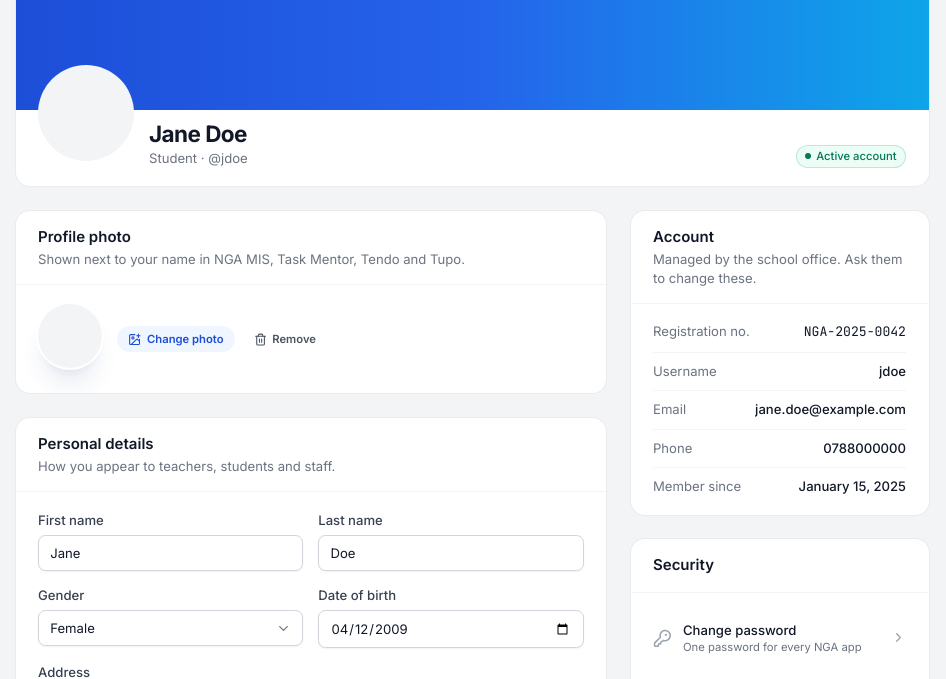
Test: Profile page › discards edits
This screenshot has width=946, height=679.
Type "x" into the field labelled "First name" at (171, 553), box top-left (38, 535), bottom-right (303, 571)
(page scrolled)
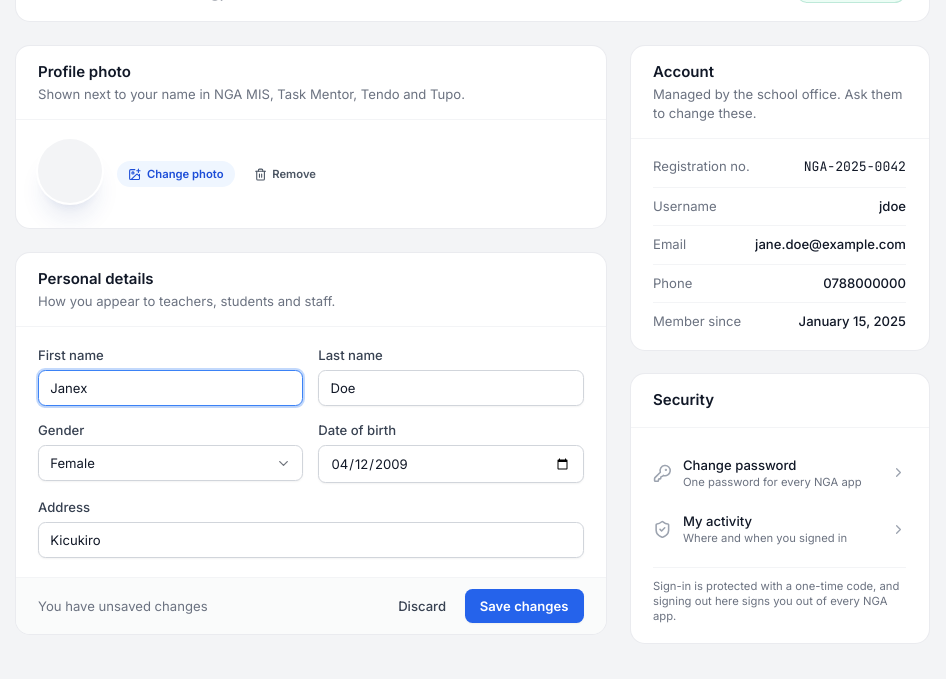
Click the button "Discard" at (422, 606), box top-left (387, 589), bottom-right (457, 623)
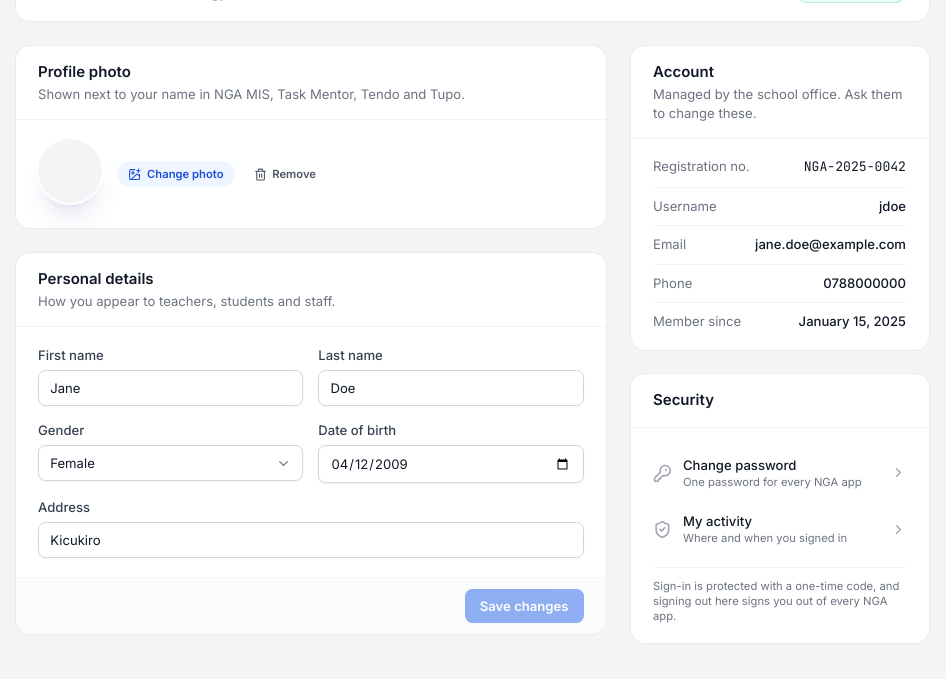
Now the field labelled "First name" holds "Jane", box top-left (38, 370), bottom-right (303, 406)
Now the text "unsaved changes" is gone
